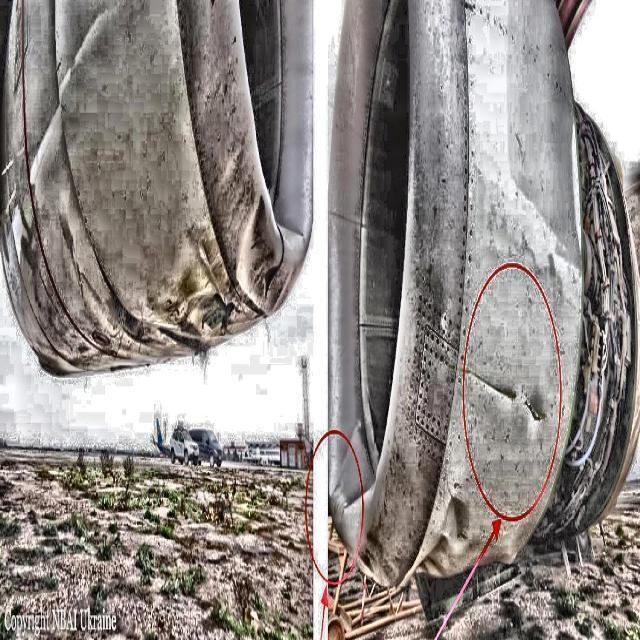crack: (524, 391, 546, 424)
dent: (420, 490, 471, 587)
